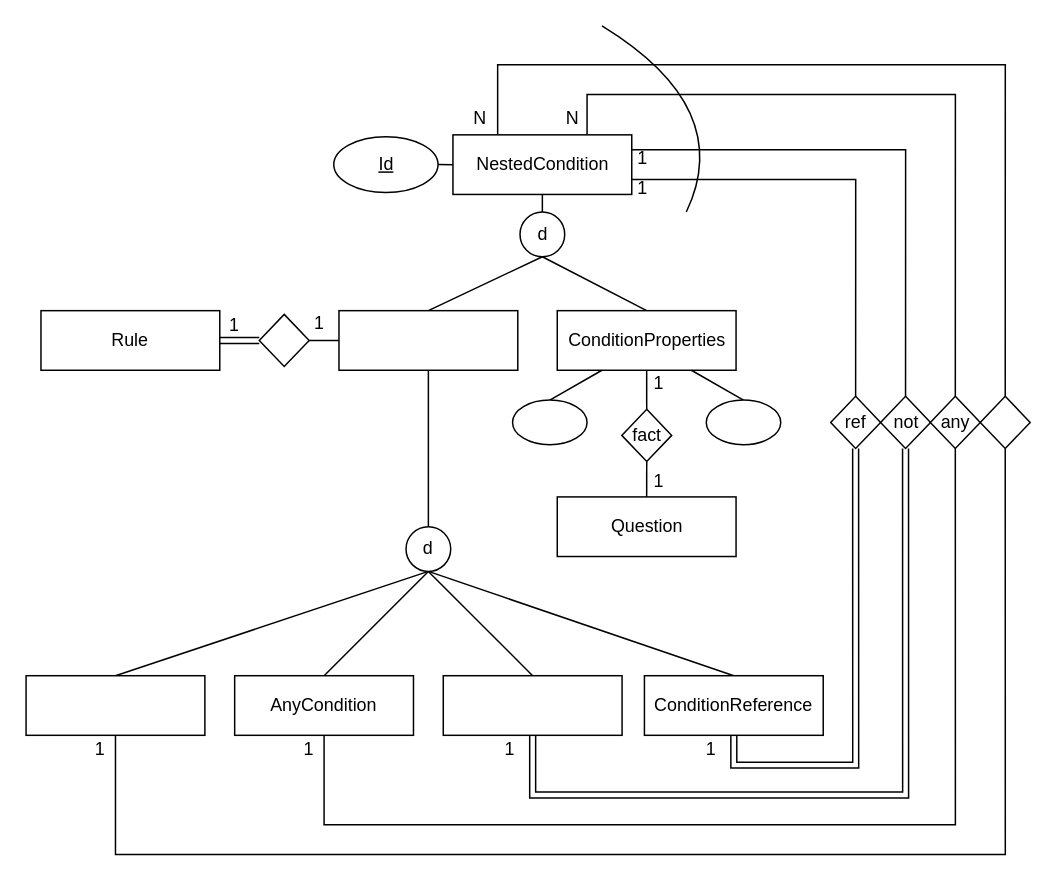
The diagram is 1056 pixels wide and 884 high, and some of its shapes have lost their labels. Here are the shapes that lost their labels. From the top down, the box of each, then its label:
(258, 313, 309, 367): has
(337, 309, 518, 370): TopLevelCondition
(511, 399, 587, 445): operator
(705, 399, 781, 445): value
(979, 395, 1030, 448): all
(25, 674, 205, 735): AllCondition
(442, 674, 622, 735): NotCondition
